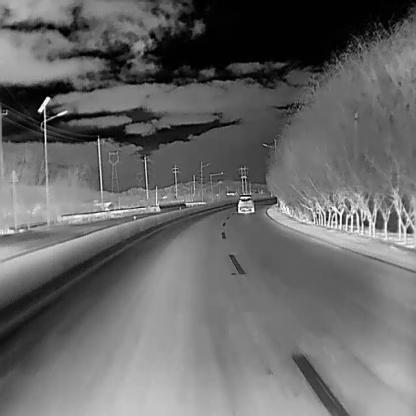car: (236, 193, 254, 212)
